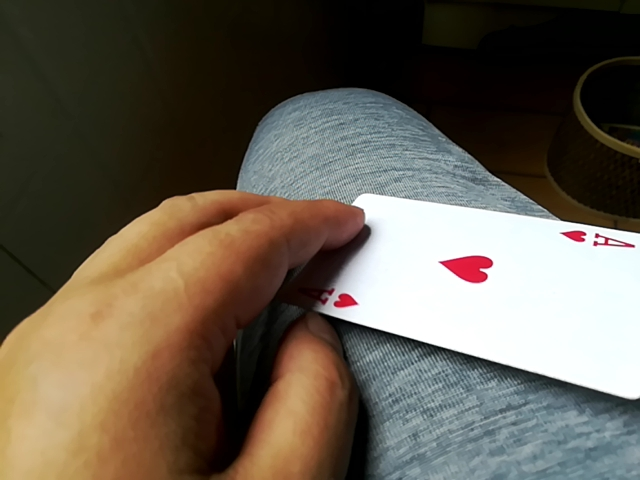hx a: (299, 188, 640, 397)
